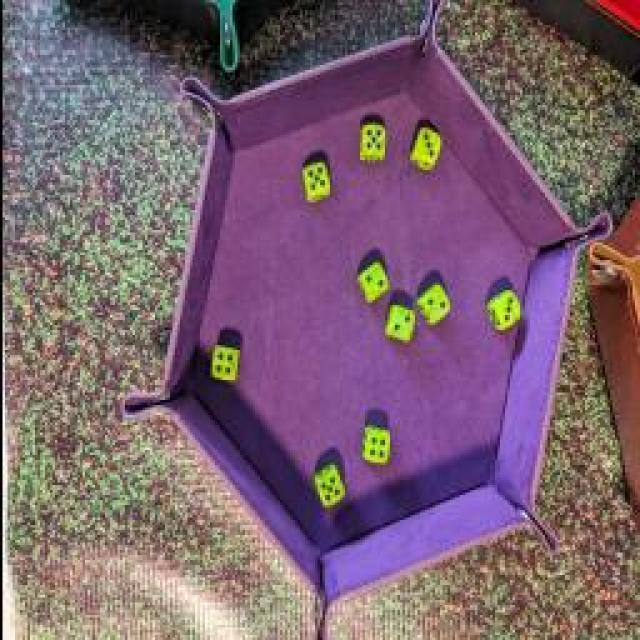dice_2: (356, 254, 392, 308), (379, 300, 416, 348), (418, 275, 452, 325)
dice_3: (480, 288, 525, 332), (406, 125, 442, 177)
dice_4: (356, 421, 392, 469), (204, 339, 238, 386)
dice_5: (308, 460, 348, 515), (296, 154, 332, 211), (353, 118, 385, 168)
